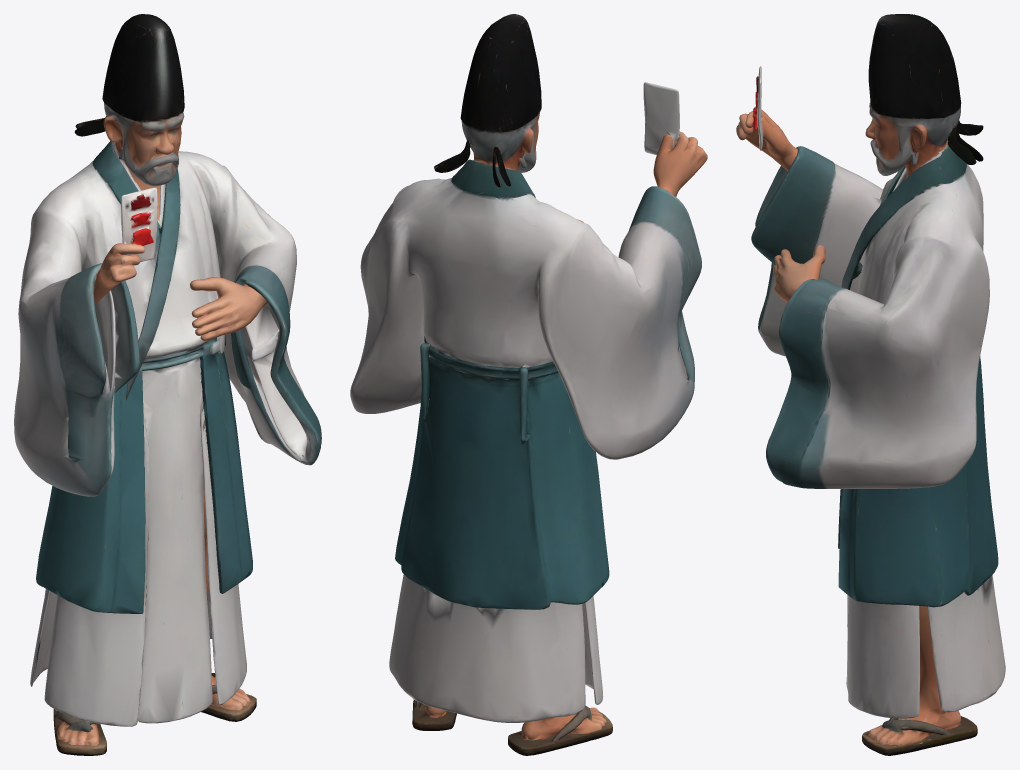
Rendered from detail_6.glb.
3 views of the same model, side by side, from view 1: azimuth 30°, elevation 25°; view 2: azimuth 150°, elevation 25°; view 3: azimuth 270°, elevation 25° (orthographic).
Size of the model in its own units: 0.4098 by 1 by 0.3523.
1 material, 1 textured.
